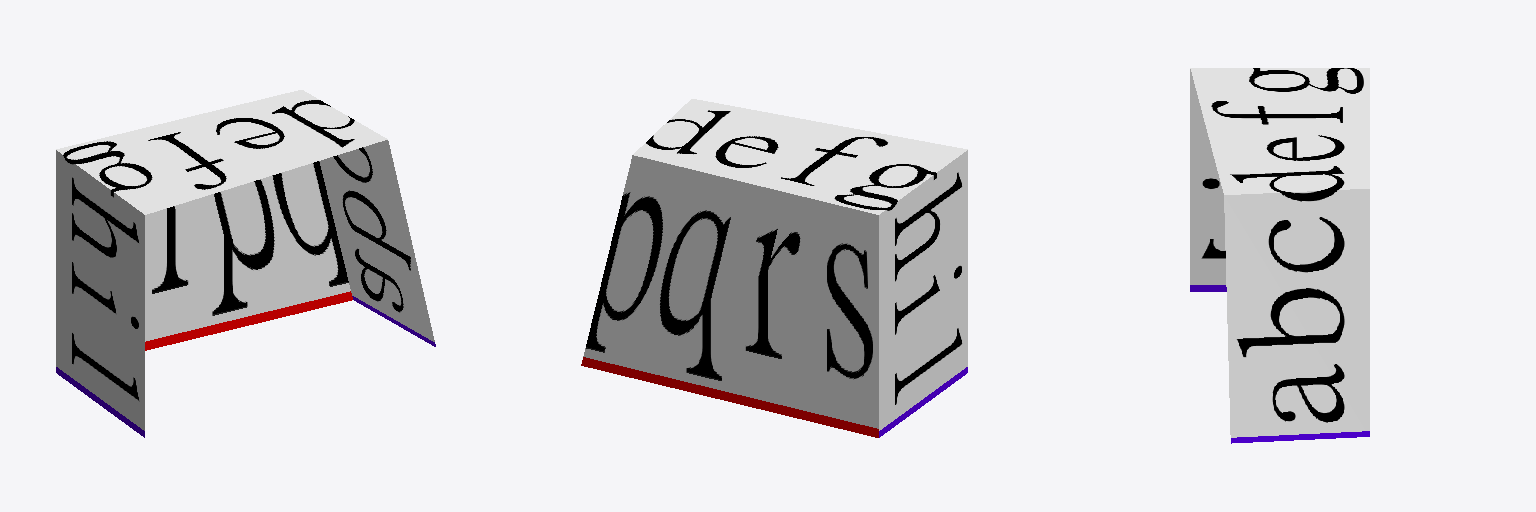
3 views of the same model, side by side, from view 1: azimuth 30°, elevation 25°; view 2: azimuth 150°, elevation 25°; view 3: azimuth 270°, elevation 25° (orthographic).
Parts seen in each view (by area): view 1: Cube; view 2: Cube; view 3: Cube.
Part boxes in pixels (x1,y1,x2,y2): Cube: (56,90,435,437); Cube: (581,99,967,437); Cube: (1190,68,1369,443).
Size of the model in its own units: 16.05 by 11 by 8.
Materials: 1 (1 with a texture image).